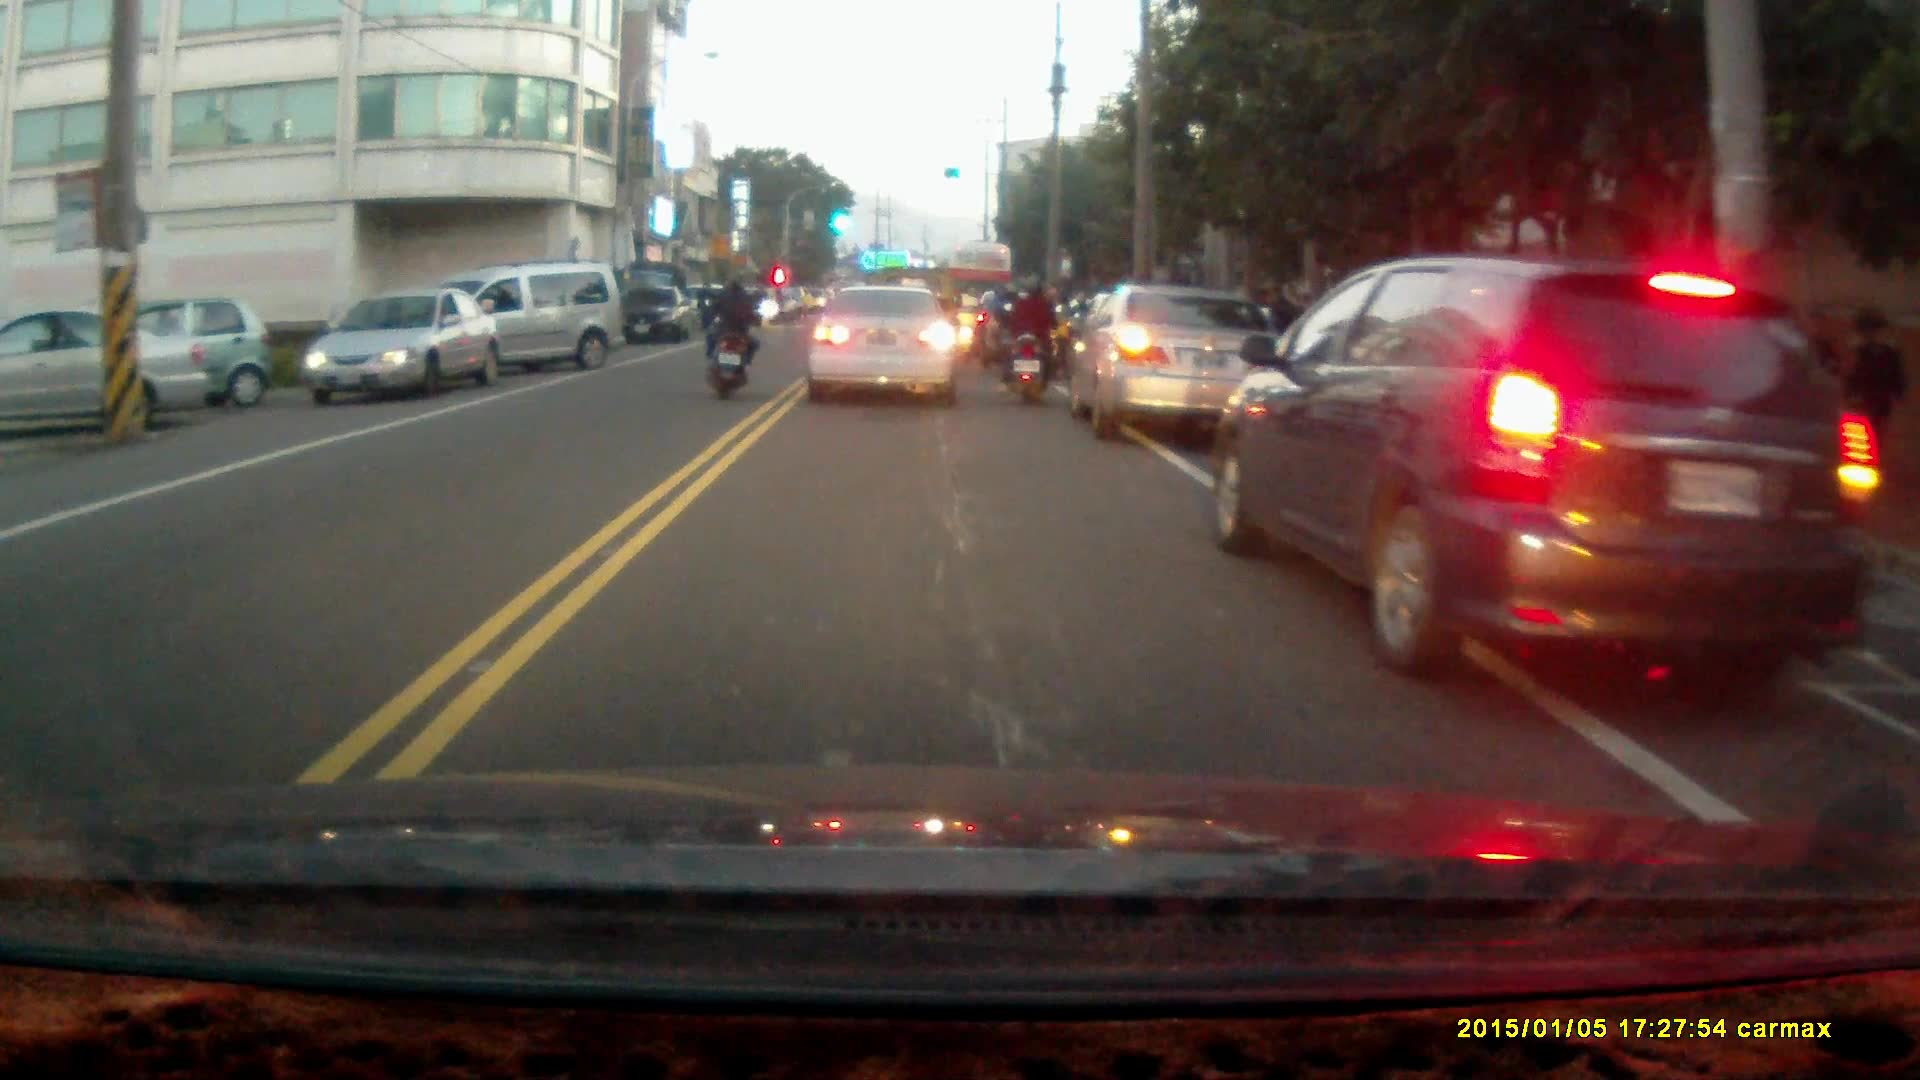pedestrian: (1850, 312, 1900, 473)
rider: (997, 270, 1064, 407), (700, 273, 761, 397)
vehicle: (1210, 249, 1871, 690), (1064, 280, 1289, 436), (396, 261, 622, 386), (1, 308, 213, 437), (44, 296, 271, 414), (299, 289, 501, 404), (802, 285, 964, 404), (615, 286, 687, 347)
